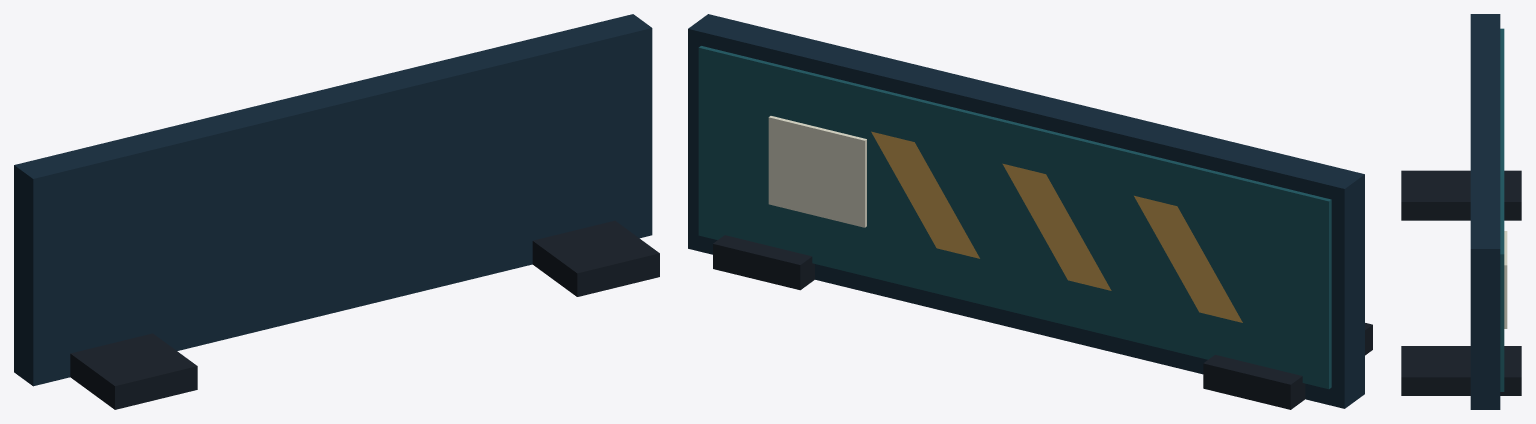
The model's file is ad-board.glb.
3 views of the same model, side by side, from view 1: azimuth 30°, elevation 25°; view 2: azimuth 150°, elevation 25°; view 3: azimuth 270°, elevation 25° (orthographic). The views are drawn at different scales.
Visible parts, largest first — view 1: ad-board; view 2: ad-board; view 3: ad-board.
Boxes of the visible parts, x1,y1,x2,y2 form: ad-board: (14,14,659,409); ad-board: (688,14,1372,409); ad-board: (1401,14,1521,409).
Size of the model in its own units: 3 by 0.96 by 0.65.
